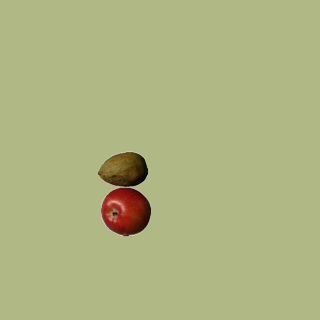Apple Braeburn: (100, 186, 150, 236)
Papaya: (97, 144, 147, 194)
